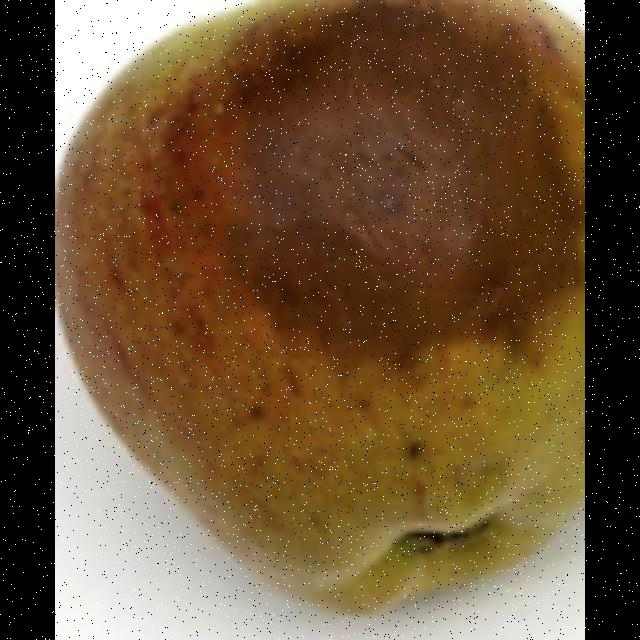Apel Tidak Segar: (55, 0, 585, 638)
